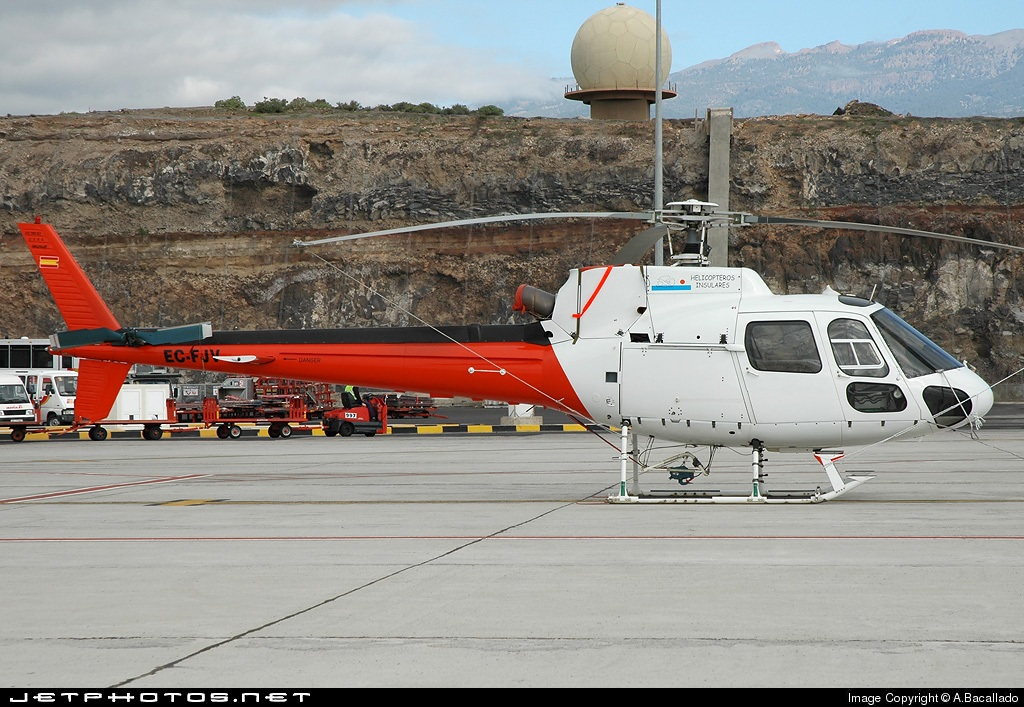number: (158, 346, 221, 367)
